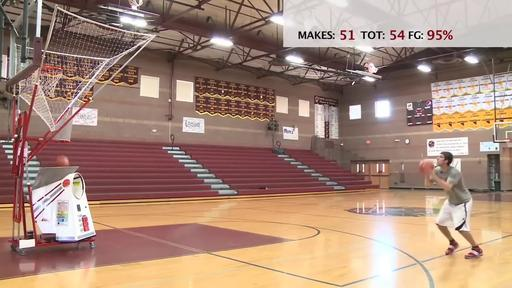ball: (418, 158, 434, 174)
human: (424, 152, 484, 260)
rim: (39, 66, 65, 94)
